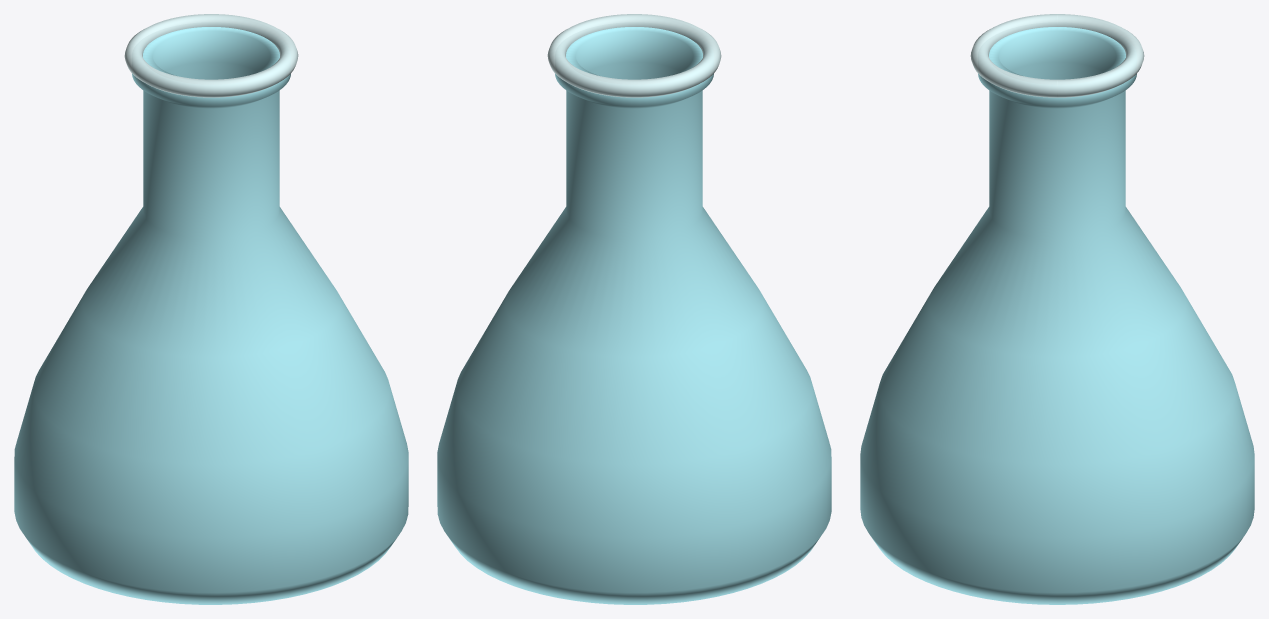
Rendered from erlenmeyer.glb.
3 renders of one model, left to right at view 1: azimuth 30°, elevation 25°; view 2: azimuth 150°, elevation 25°; view 3: azimuth 270°, elevation 25°, orthographic.
Visible parts, largest first — view 1: erlenmeyer; view 2: erlenmeyer; view 3: erlenmeyer.
Part boxes in pixels (<box>): erlenmeyer: <box>14,14,408,604</box>; erlenmeyer: <box>437,14,831,604</box>; erlenmeyer: <box>860,14,1254,604</box>.
Size of the model in its own units: 1.04 by 1.39 by 1.04.
